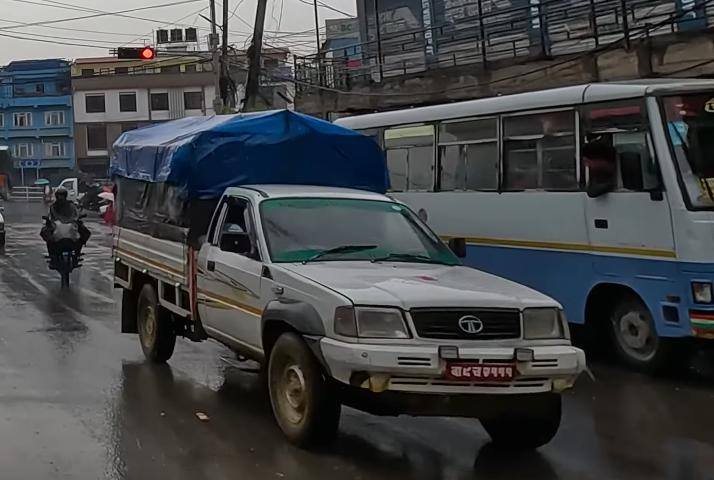bike: (40, 186, 100, 291)
bus: (334, 79, 714, 380)
transport_vehicle: (111, 95, 578, 449)
